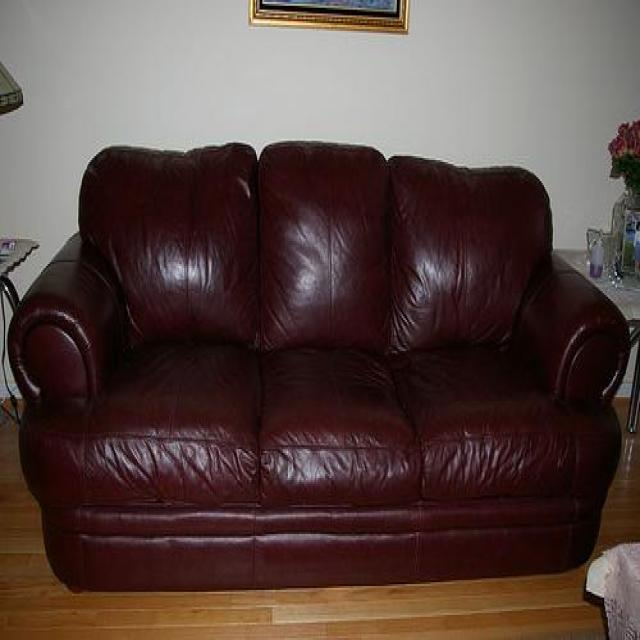sofa: (7, 135, 630, 602)
